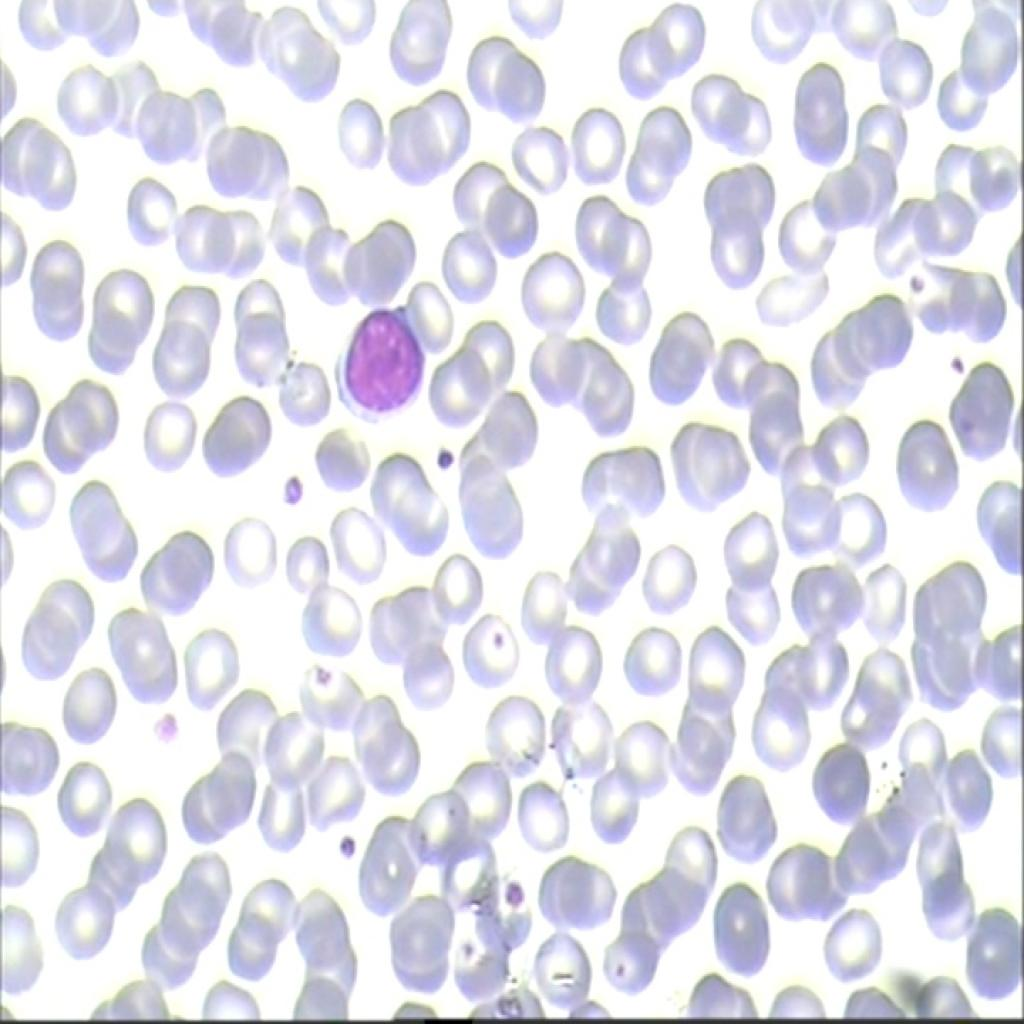Limfosit: (326, 300, 428, 425)
Platelet: (324, 818, 367, 878), (933, 334, 977, 391), (428, 427, 468, 485), (273, 468, 310, 516), (144, 704, 182, 747), (308, 656, 342, 695), (501, 868, 526, 919), (478, 619, 513, 654), (903, 258, 930, 302)
